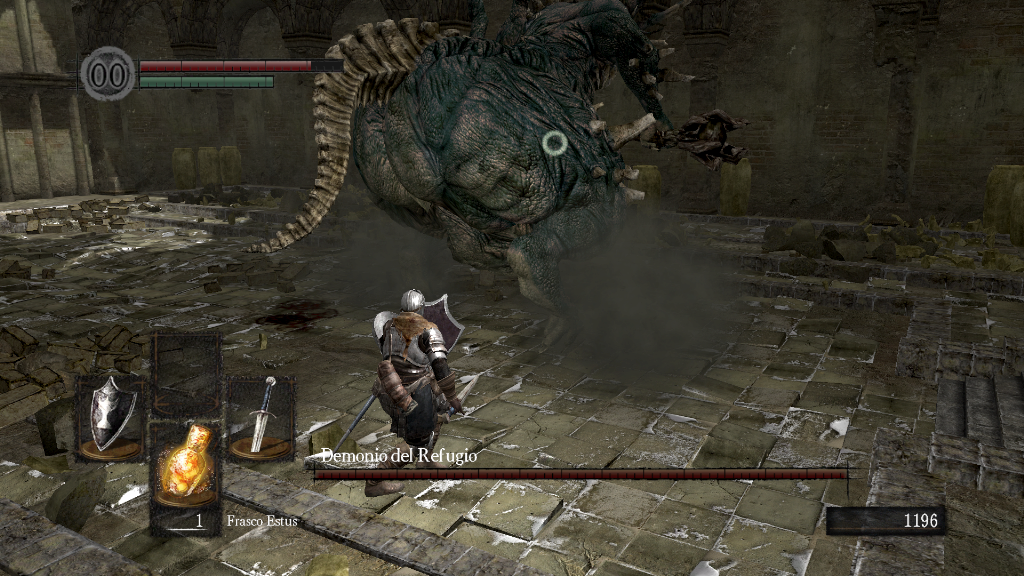asylumDemon: (238, 5, 750, 320)
bossHP: (314, 469, 847, 479)
health: (138, 58, 343, 71)
humanity: (80, 45, 136, 102)
player: (364, 286, 481, 498)
souls: (825, 506, 945, 536)
stamina: (138, 74, 274, 88)
